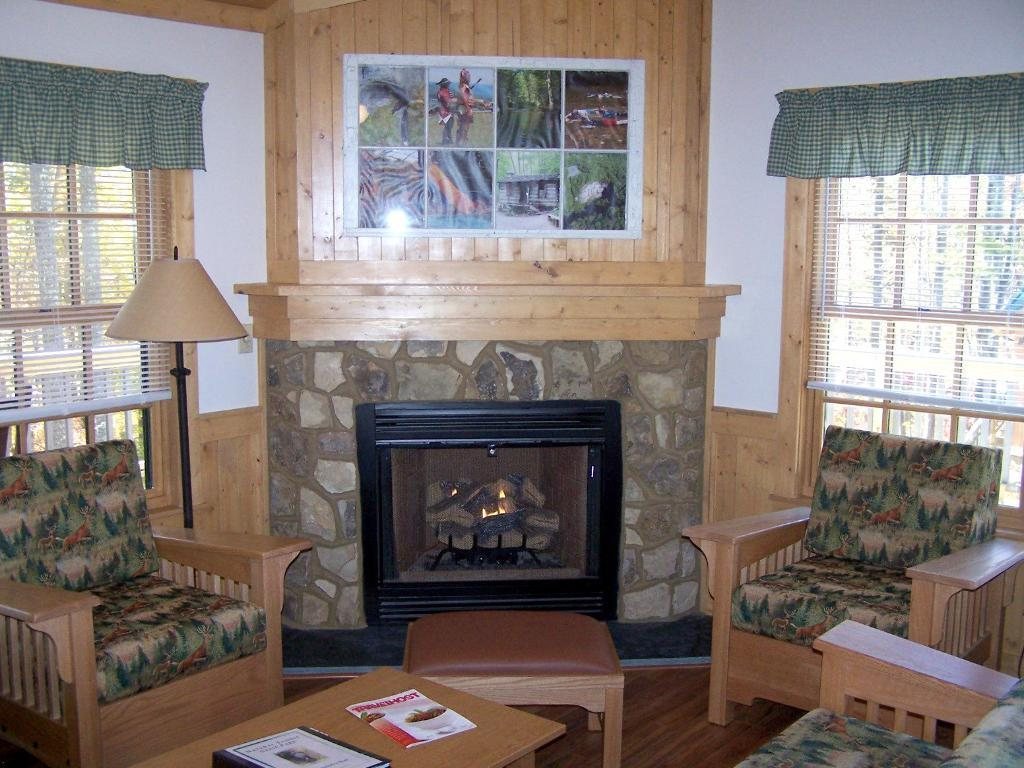Fire: (460, 480, 524, 524)
